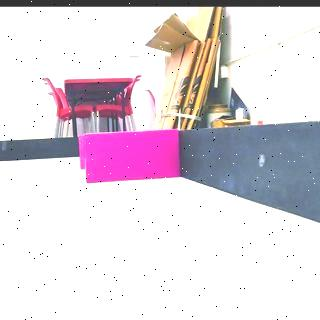xparking: (76, 128, 181, 184)
